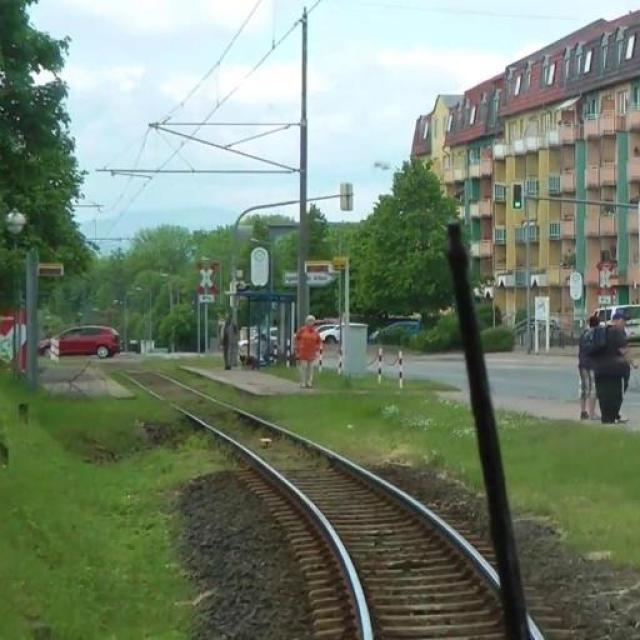people: (596, 310, 634, 422), (294, 314, 327, 386), (577, 316, 600, 419), (215, 310, 244, 370)
vehicle: (28, 322, 123, 363)
